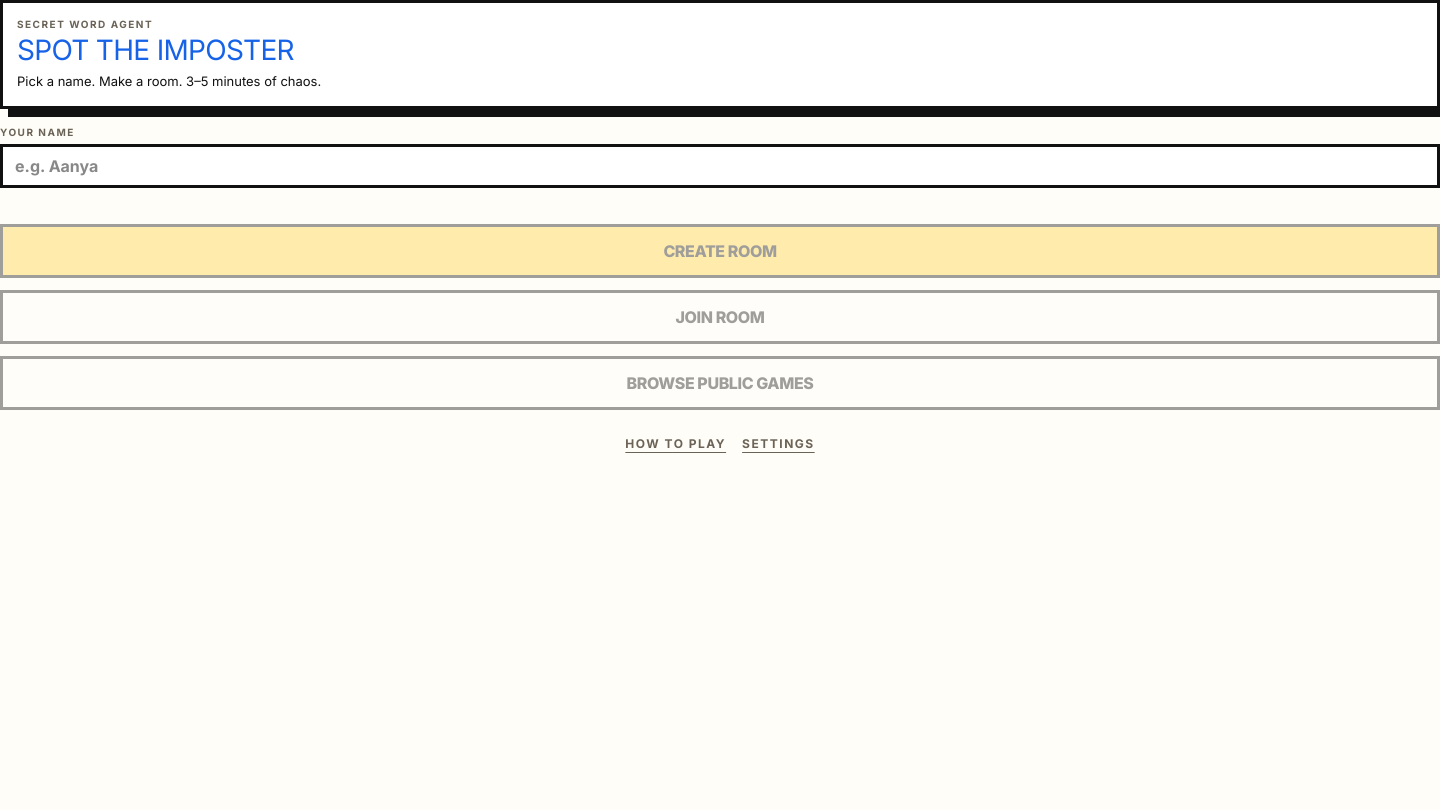
Test case: Landing › opens and closes How To Play
The width and height of the screenshot is (1440, 810).
Click the button "How To Play": x=676, y=444 top-left (625, 422), bottom-right (726, 466)
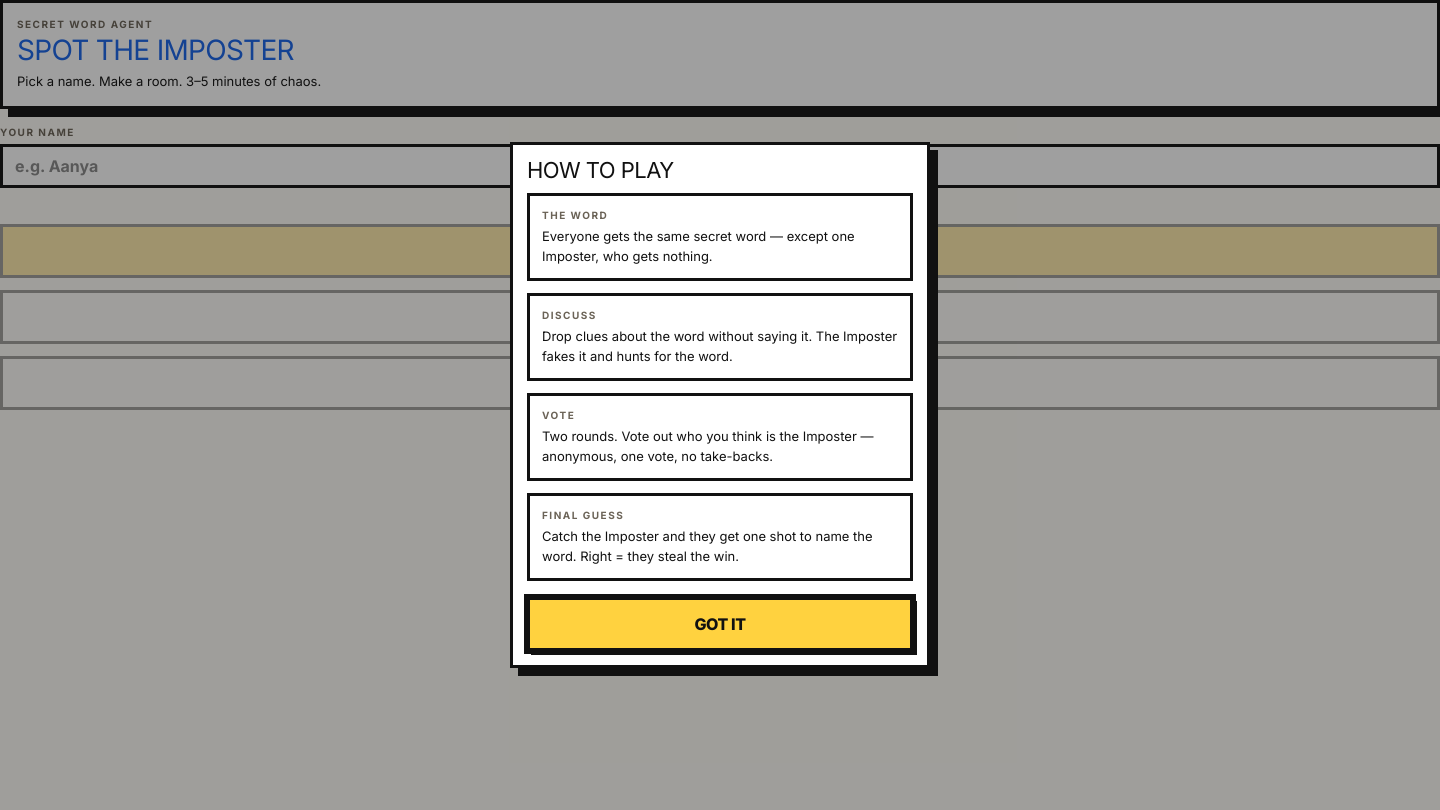
Result: the dialog is shown
Click the button "Got it": x=720, y=624 top-left (527, 597), bottom-right (913, 651)
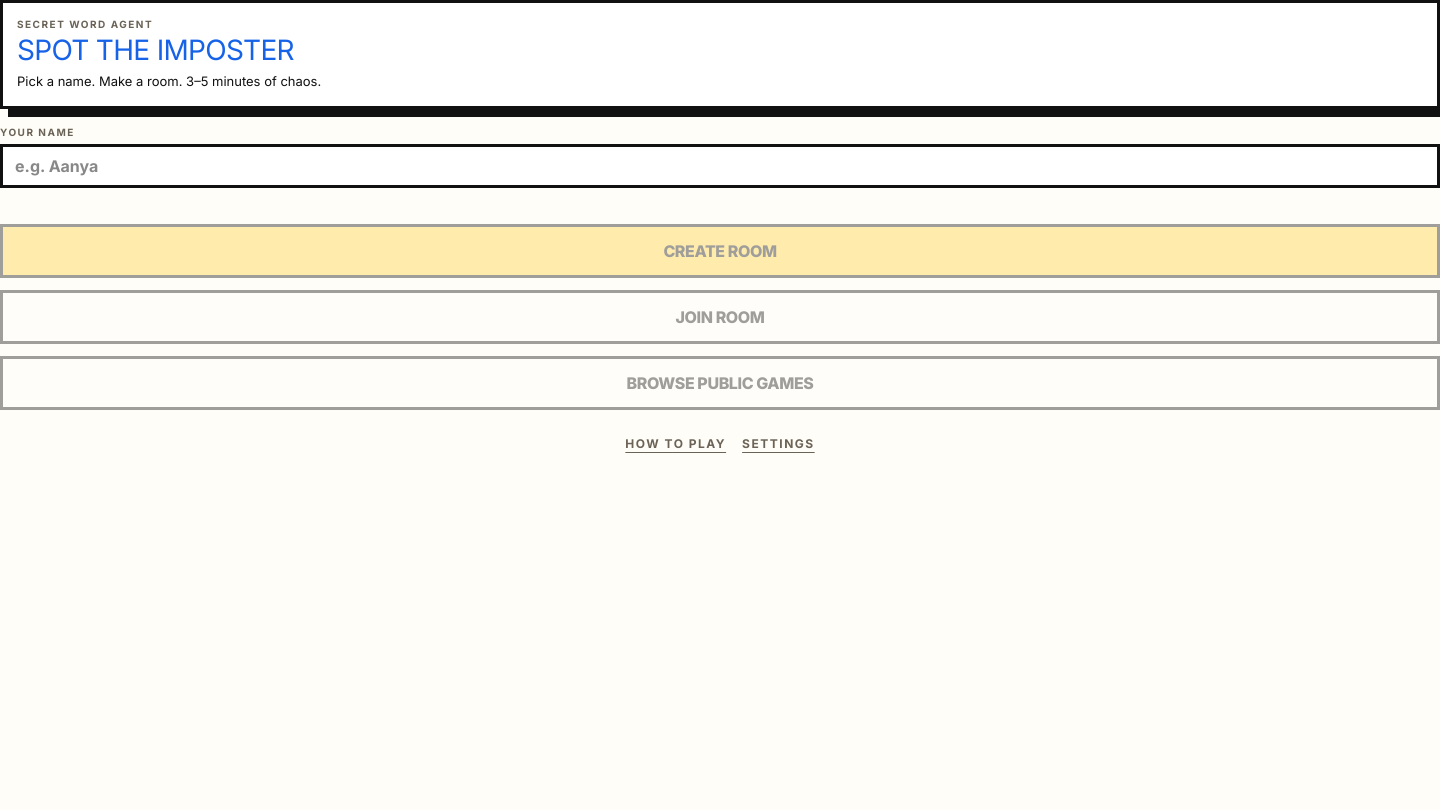
Result: the dialog is gone
